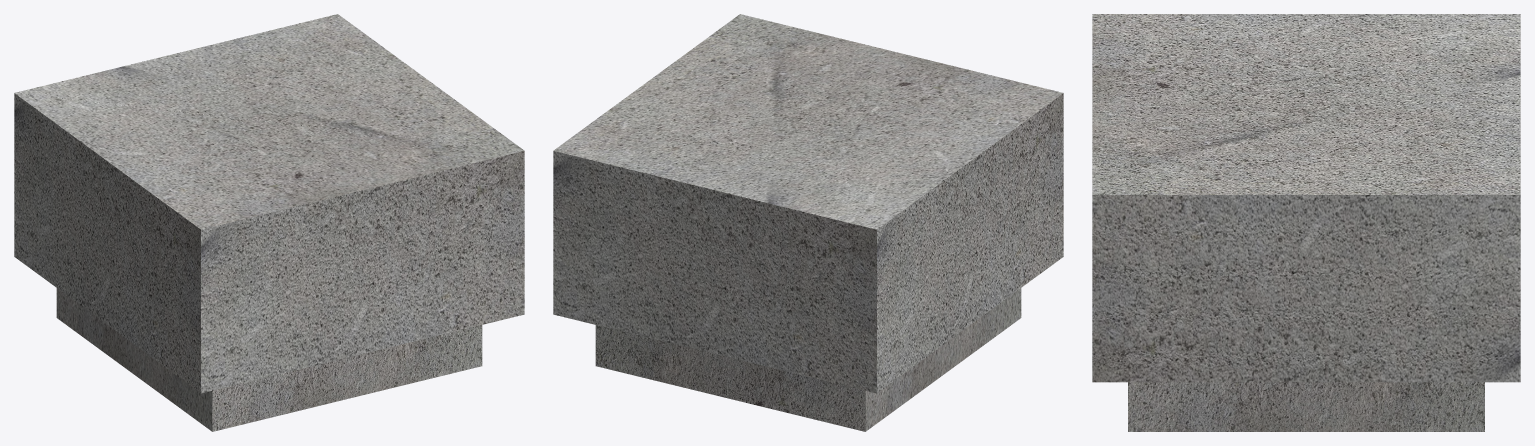
3 views of the same model, side by side, from view 1: azimuth 30°, elevation 25°; view 2: azimuth 150°, elevation 25°; view 3: azimuth 270°, elevation 25° (orthographic). The views are drawn at different scales.
Parts seen in each view (by area): view 1: Cube_Cube.001; view 2: Cube_Cube.001; view 3: Cube_Cube.001.
Part boxes in pixels (x1,y1,x2,y2): Cube_Cube.001: (14,14,524,431); Cube_Cube.001: (553,14,1063,431); Cube_Cube.001: (1092,14,1520,431).
Bounding box in the file's own units: 0.6 × 0.39 × 0.6.
1 material, 1 textured.
